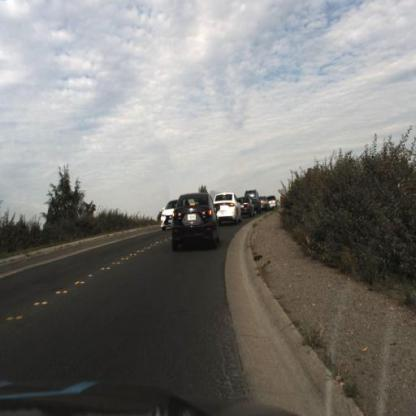car: (170, 187, 221, 262), (214, 190, 244, 230), (156, 188, 179, 238), (214, 191, 245, 225), (238, 190, 260, 221), (247, 191, 265, 220), (247, 188, 263, 214), (255, 190, 270, 214), (239, 194, 251, 219)
